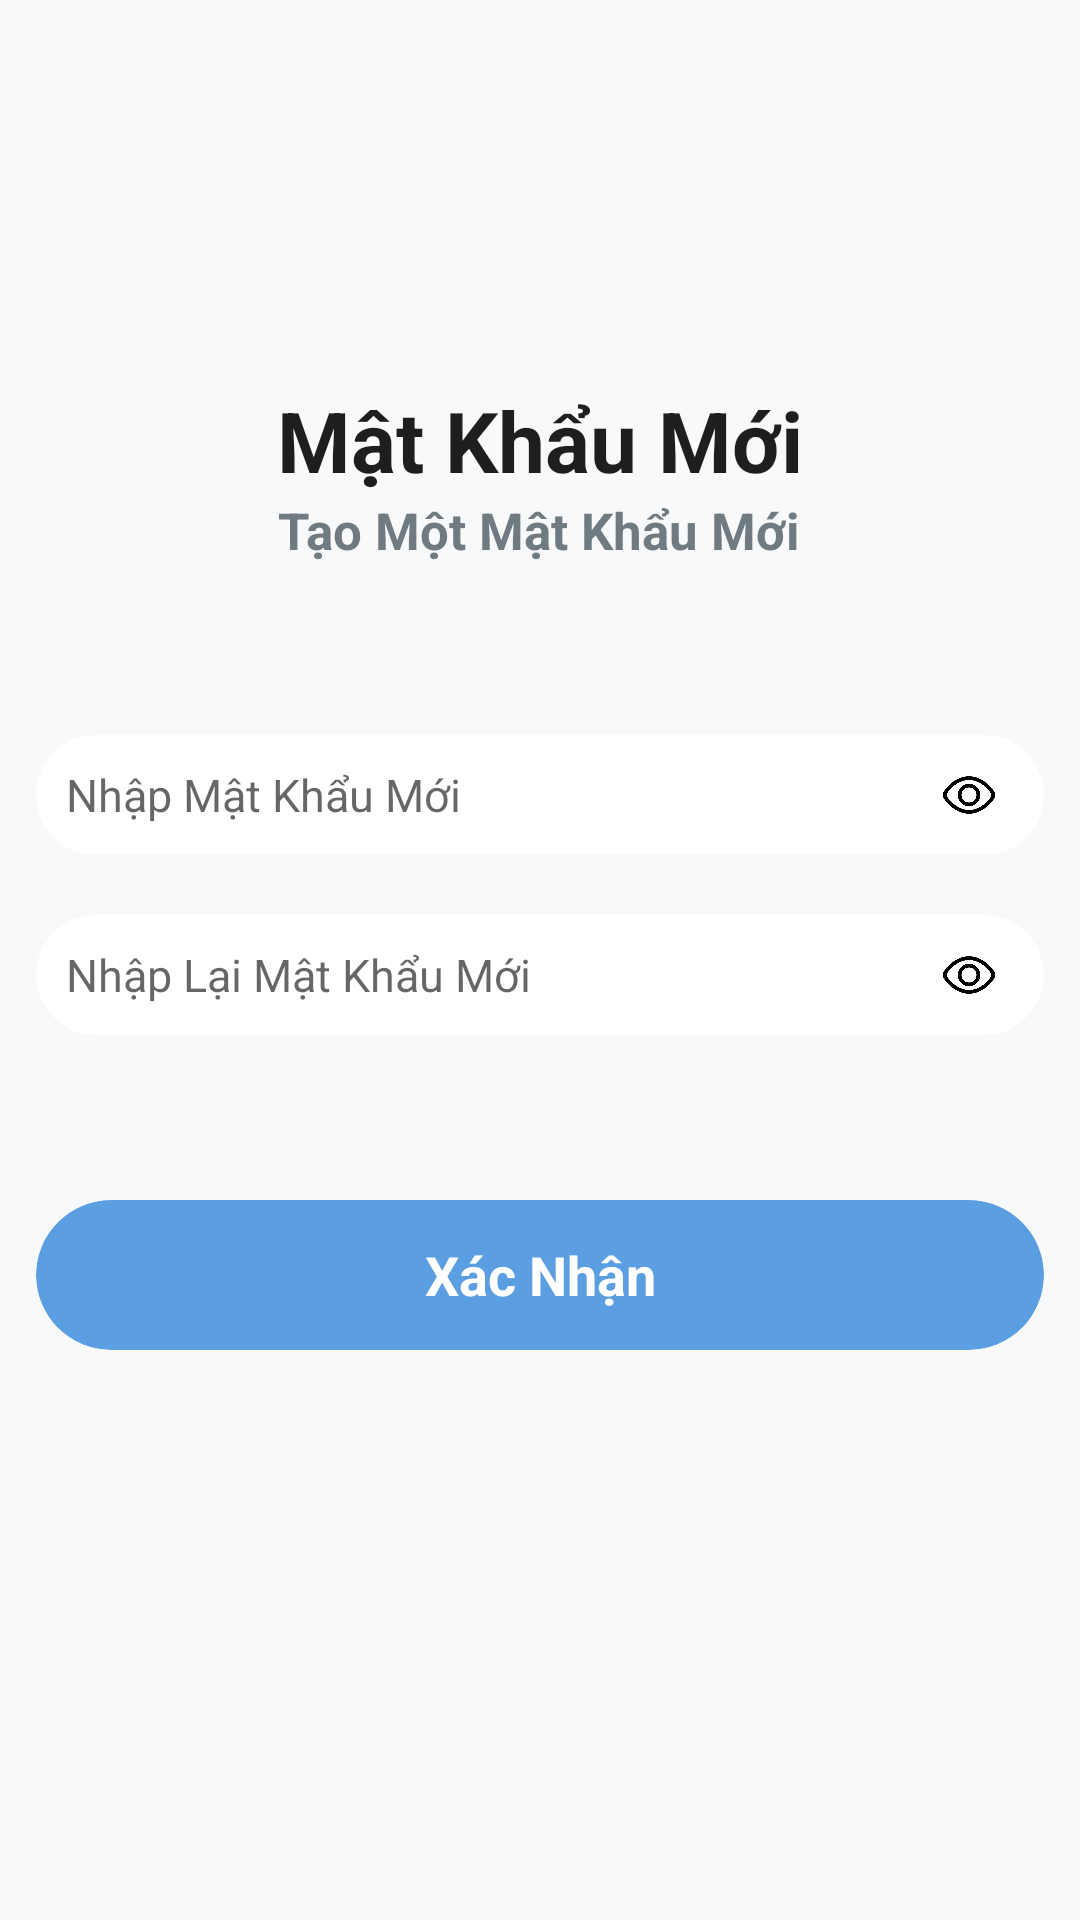

Point at icon controls on the screen. Image size 1080x1920, points as (x=x, y=y).
show password: (x=969, y=795), (x=969, y=975)
